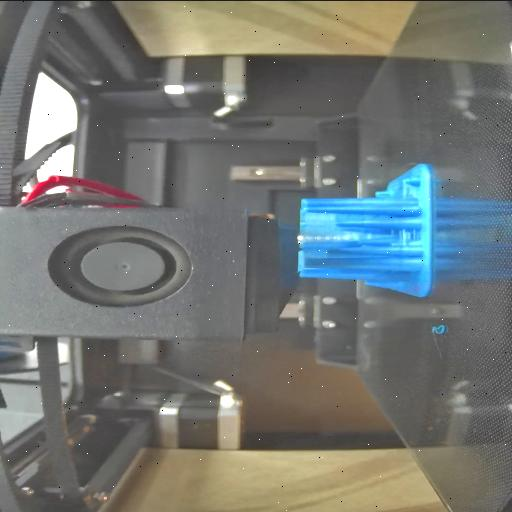stringing: (298, 212, 338, 258), (392, 226, 422, 244), (400, 181, 410, 199)
